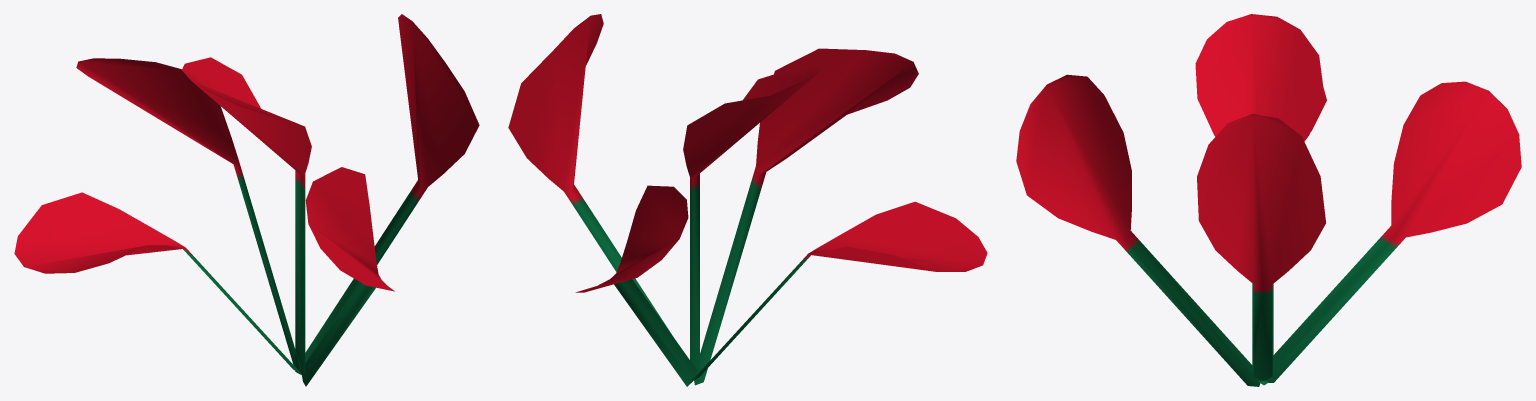
The model's file is bunga.gltf.
3 renders of one model, left to right at view 1: azimuth 30°, elevation 25°; view 2: azimuth 150°, elevation 25°; view 3: azimuth 270°, elevation 25°, orthographic. The views are drawn at different scales.
Visible parts, largest first — view 1: Rose.004, Rose.003, Rose.001, Rose.002, Rose; view 2: Rose.002, Rose.004, Rose.003, Rose, Rose.001; view 3: Rose.001, Rose.004, Rose.002, Rose.
Boxes of the visible parts, x1,y1,x2,y2 form: Rose.004: (305,14,479,362); Rose.003: (14,192,302,375); Rose.001: (76,58,301,374); Rose.002: (301,167,394,386); Rose: (182,57,311,374); Rose.002: (694,48,918,385); Rose.004: (508,14,693,380); Rose.003: (689,201,987,383); Rose: (683,66,822,380); Rose.001: (575,185,697,386); Rose.001: (1263,81,1521,382); Rose.004: (1197,114,1325,380); Rose.002: (1016,74,1260,386); Rose: (1195,14,1324,381).
Size of the model in its own units: 5.19 by 3.88 by 5.5.
1 material, 1 textured.
